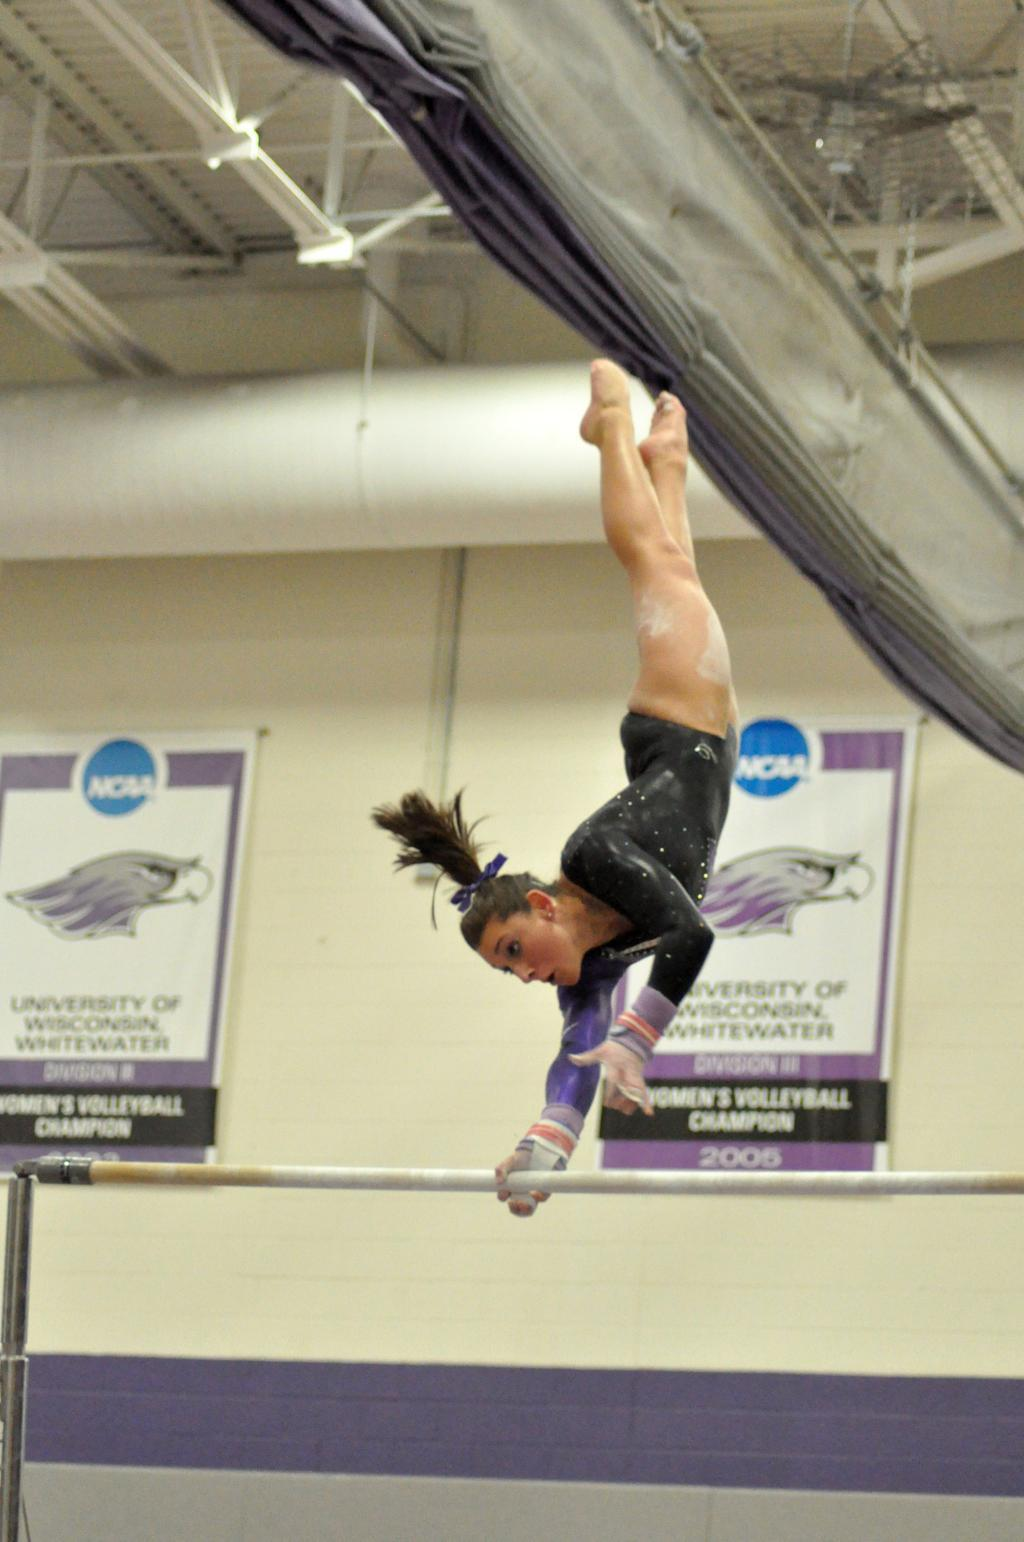face: (485, 916, 579, 986)
